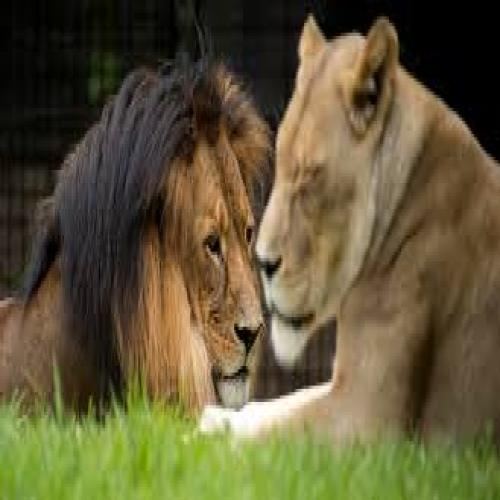lion-endangered: (243, 31, 500, 474), (0, 49, 263, 412)
